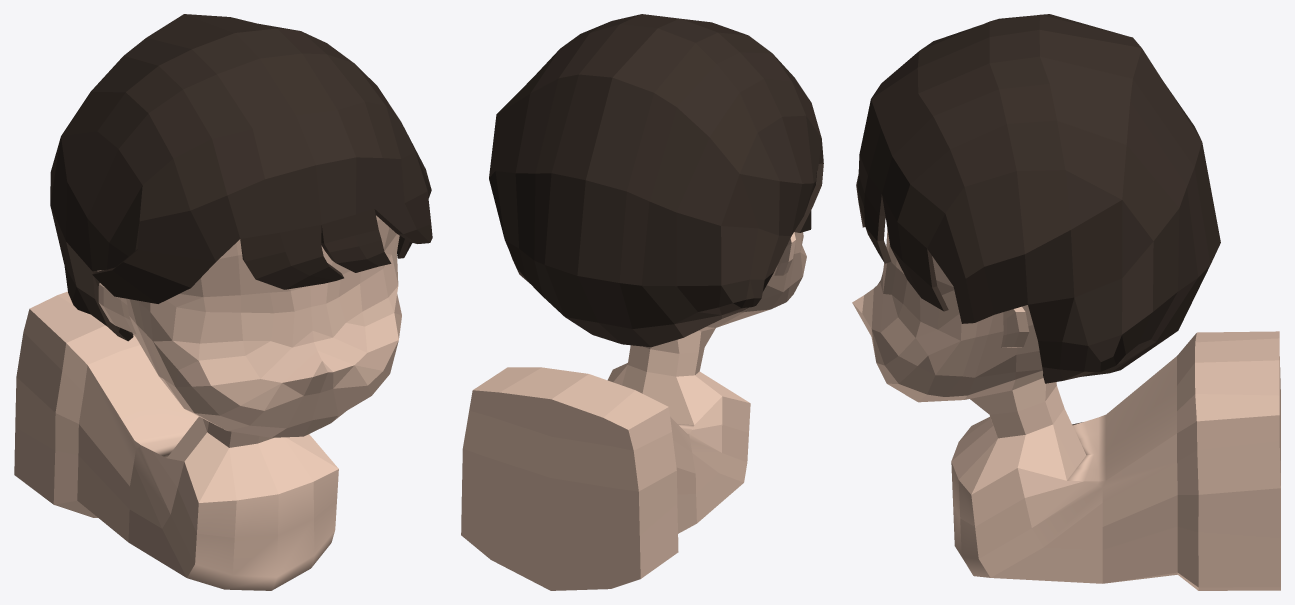
File: Human.fbx
3 views of the same model, side by side, from view 1: azimuth 30°, elevation 25°; view 2: azimuth 150°, elevation 25°; view 3: azimuth 270°, elevation 25° (orthographic). The views are drawn at different scales.
Visible parts, largest first — view 1: polySurface18, polySurface5; view 2: polySurface5, polySurface18; view 3: polySurface5, polySurface18.
Part boxes in pixels (x1,y1,x2,y2): polySurface18: (14, 215, 401, 590); polySurface5: (50, 14, 432, 341); polySurface5: (489, 14, 823, 347); polySurface18: (461, 232, 806, 590); polySurface5: (856, 14, 1220, 383); polySurface18: (852, 229, 1280, 590).
Bounding box in the file's own units: 1.14 × 1.85 × 1.32.
